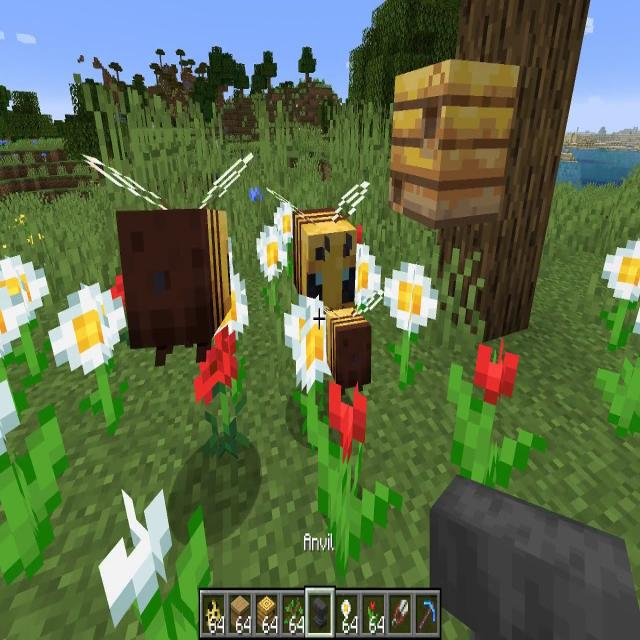Bee: (75, 123, 269, 394), (264, 172, 374, 313), (312, 303, 385, 405)
